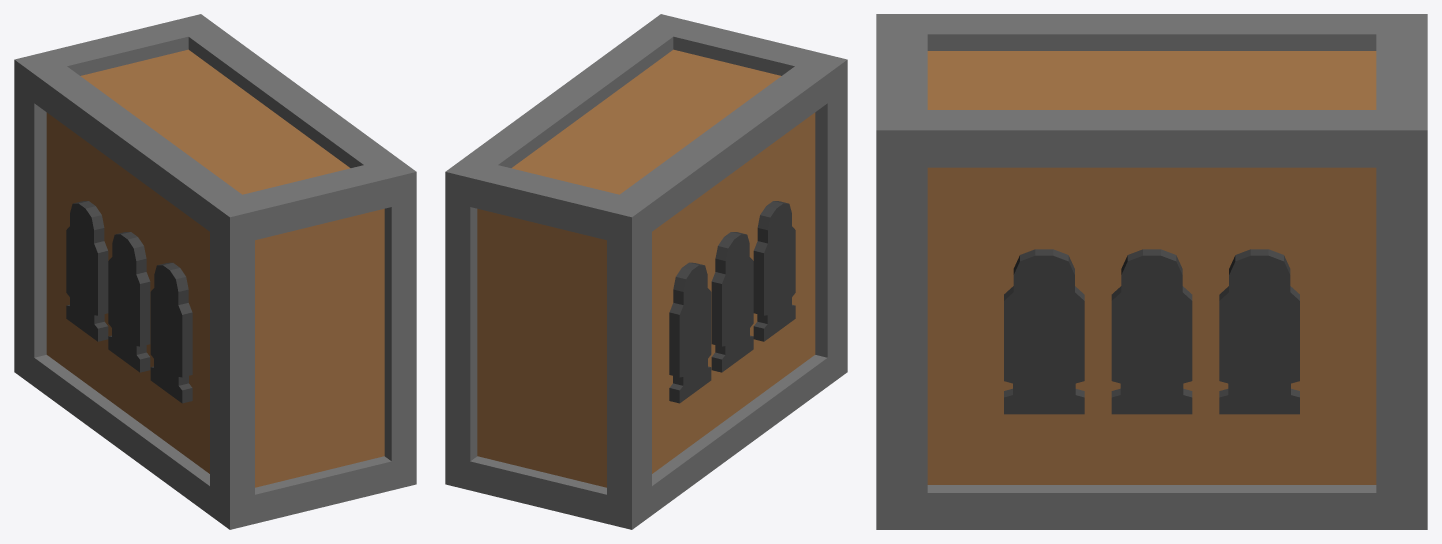
3 renders of one model, left to right at view 1: azimuth 30°, elevation 25°; view 2: azimuth 150°, elevation 25°; view 3: azimuth 270°, elevation 25°, orthographic. The views are drawn at different scales.
Visible parts, largest first — view 1: Cube; view 2: Cube; view 3: Cube.
Boxes of the visible parts, x1=… form: Cube: x1=14, y1=14, x2=416, y2=529; Cube: x1=445, y1=14, x2=847, y2=529; Cube: x1=876, y1=14, x2=1427, y2=529.
Bounding box in the file's own units: 205 × 327 × 409.
